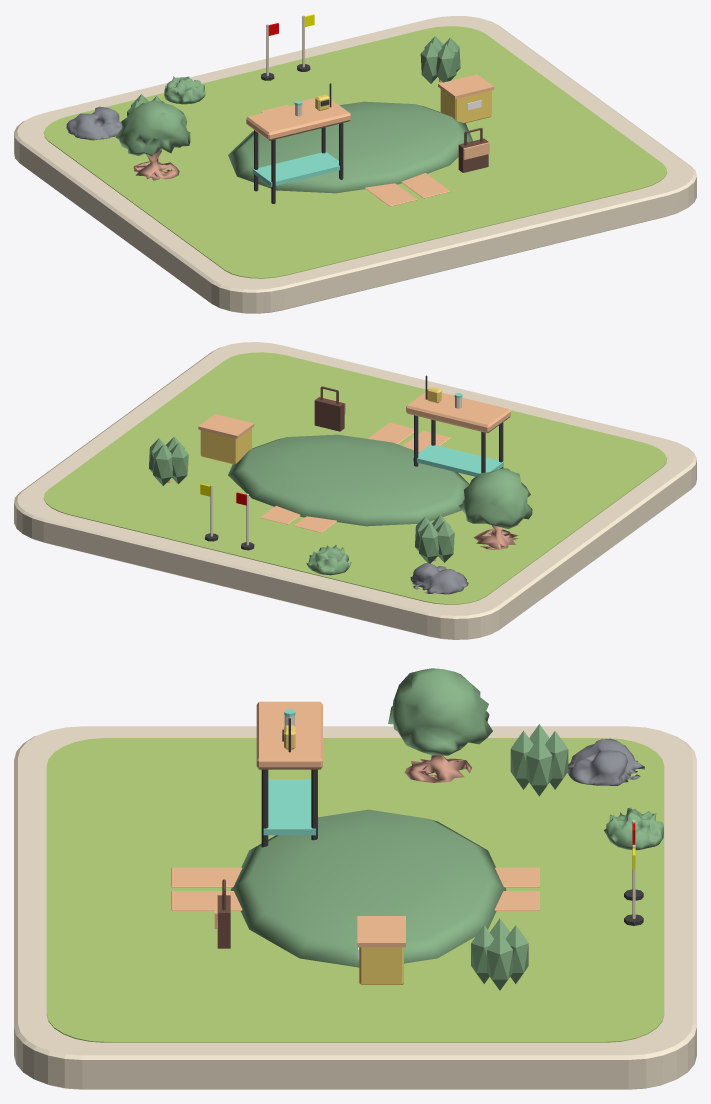
3 views of the same model, one above another, from view 1: azimuth 30°, elevation 25°; view 2: azimuth 150°, elevation 25°; view 3: azimuth 270°, elevation 25° (orthographic). The views are drawn at different scales.
Visible parts, largest first — view 1: COM-02 Floor Surface, COM-01 Rounded Base Direct, Low terrain, 둥근 수관 나무, Worktop, Lower shelf, 둥근 강돌 무리, Box, Bag, 넓은 잎 풀 포기, Lid, Path stone (+3 smaller); view 2: COM-02 Floor Surface, COM-01 Rounded Base Direct, Low terrain, 둥근 수관 나무, Worktop, Lower shelf, 둥근 강돌 무리, Box, Bag, 넓은 잎 풀 포기, Lid, Leaf.001 (+4 smaller); view 3: COM-02 Floor Surface, COM-01 Rounded Base Direct, Low terrain, 둥근 수관 나무, Worktop, 둥근 강돌 무리, Lower shelf, 넓은 잎 풀 포기, Box, Lid, Path stone, Leaf (+9 smaller).
Boxes of the visible parts, x1,y1,x2,y2 form: COM-02 Floor Surface: [43, 26, 667, 278]; COM-01 Rounded Base Direct: [14, 16, 696, 313]; Low terrain: [228, 101, 472, 193]; 둥근 수관 나무: [115, 100, 190, 180]; Worktop: [246, 100, 350, 140]; Lower shelf: [253, 152, 344, 186]; 둥근 강돌 무리: [66, 106, 122, 140]; Box: [440, 89, 491, 122]; Bag: [458, 127, 489, 172]; 넓은 잎 풀 포기: [164, 76, 205, 104]; Lid: [438, 74, 494, 99]; Path stone: [365, 183, 417, 206]; COM-02 Floor Surface: [43, 352, 667, 604]; COM-01 Rounded Base Direct: [14, 342, 696, 639]; Low terrain: [228, 434, 469, 526]; 둥근 수관 나무: [459, 468, 532, 549]; Worktop: [406, 392, 510, 433]; Lower shelf: [413, 444, 503, 476]; 둥근 강돌 무리: [410, 563, 468, 594]; Box: [200, 428, 251, 464]; Bag: [314, 386, 345, 431]; 넓은 잎 풀 포기: [306, 544, 351, 575]; Lid: [198, 414, 254, 438]; Leaf.001: [419, 523, 438, 563]; COM-02 Floor Surface: [46, 738, 664, 1042]; COM-01 Rounded Base Direct: [14, 726, 696, 1089]; Low terrain: [231, 809, 506, 967]; 둥근 수관 나무: [388, 668, 492, 782]; Worktop: [256, 701, 322, 769]; 둥근 강돌 무리: [567, 738, 644, 785]; Lower shelf: [263, 779, 315, 835]; 넓은 잎 풀 포기: [604, 807, 663, 850]; Box: [359, 947, 403, 984]; Lid: [357, 916, 405, 947]; Path stone: [171, 867, 242, 887]; Leaf: [526, 737, 552, 796].
Bounding box in the file's own units: 6 × 1.46 × 5.2.
1 material, 1 textured.
